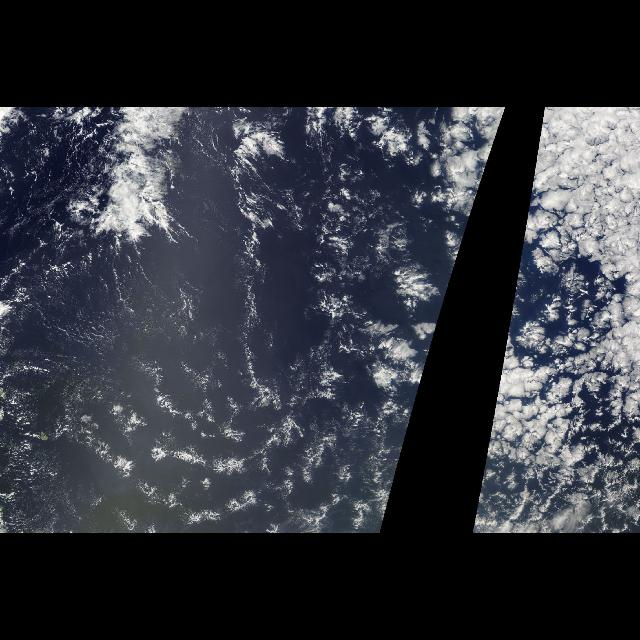Flower: (474, 118, 636, 522), (432, 118, 502, 342)
Gravel: (78, 353, 308, 533)
Sugar: (9, 237, 333, 516)
